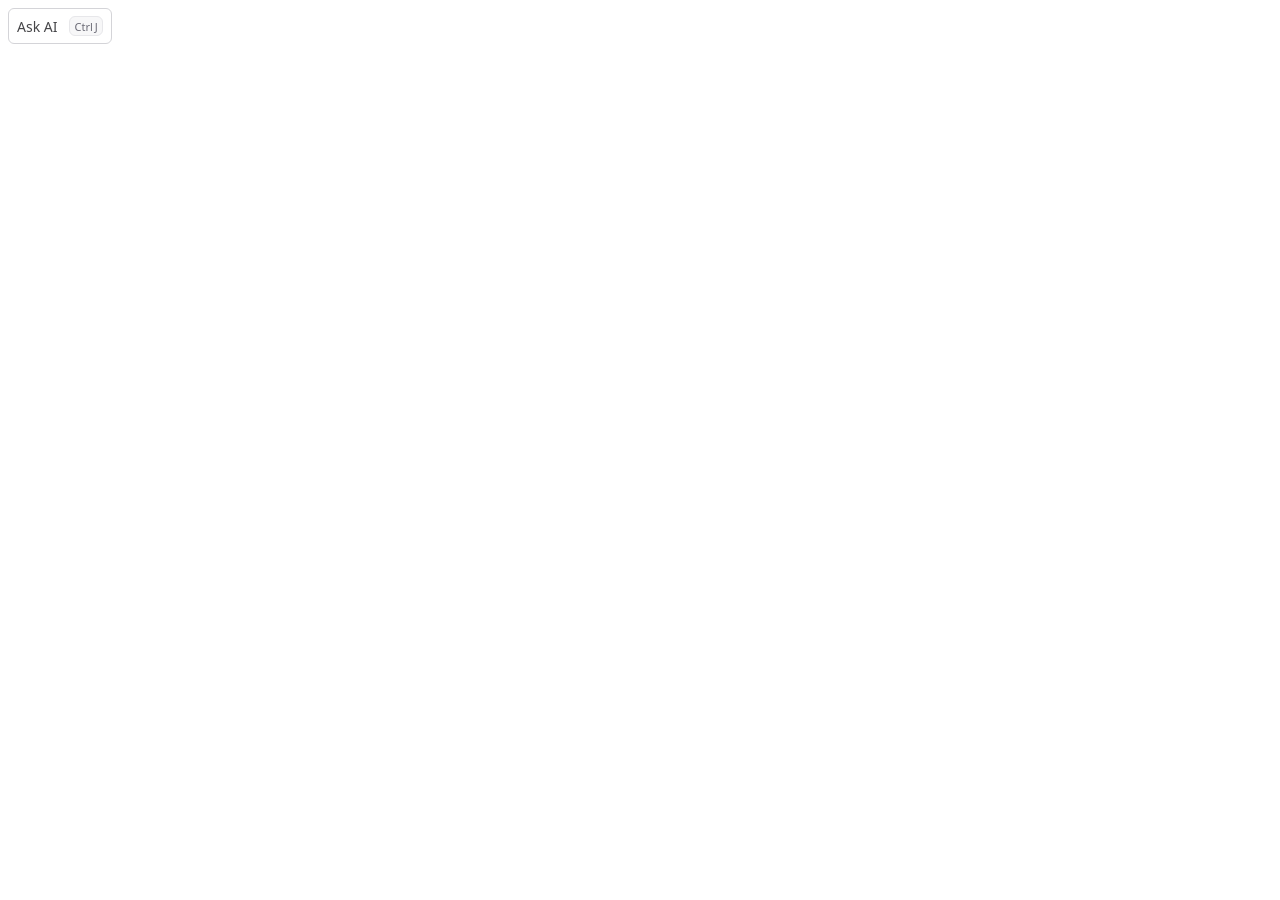
Scenario: maps attached page content into the Algolia agent request
The width and height of the screenshot is (1280, 900).
Click the button "Ask AI Ctrl J" at x=60, y=26, box x1=8 y1=8 x2=112 y2=44
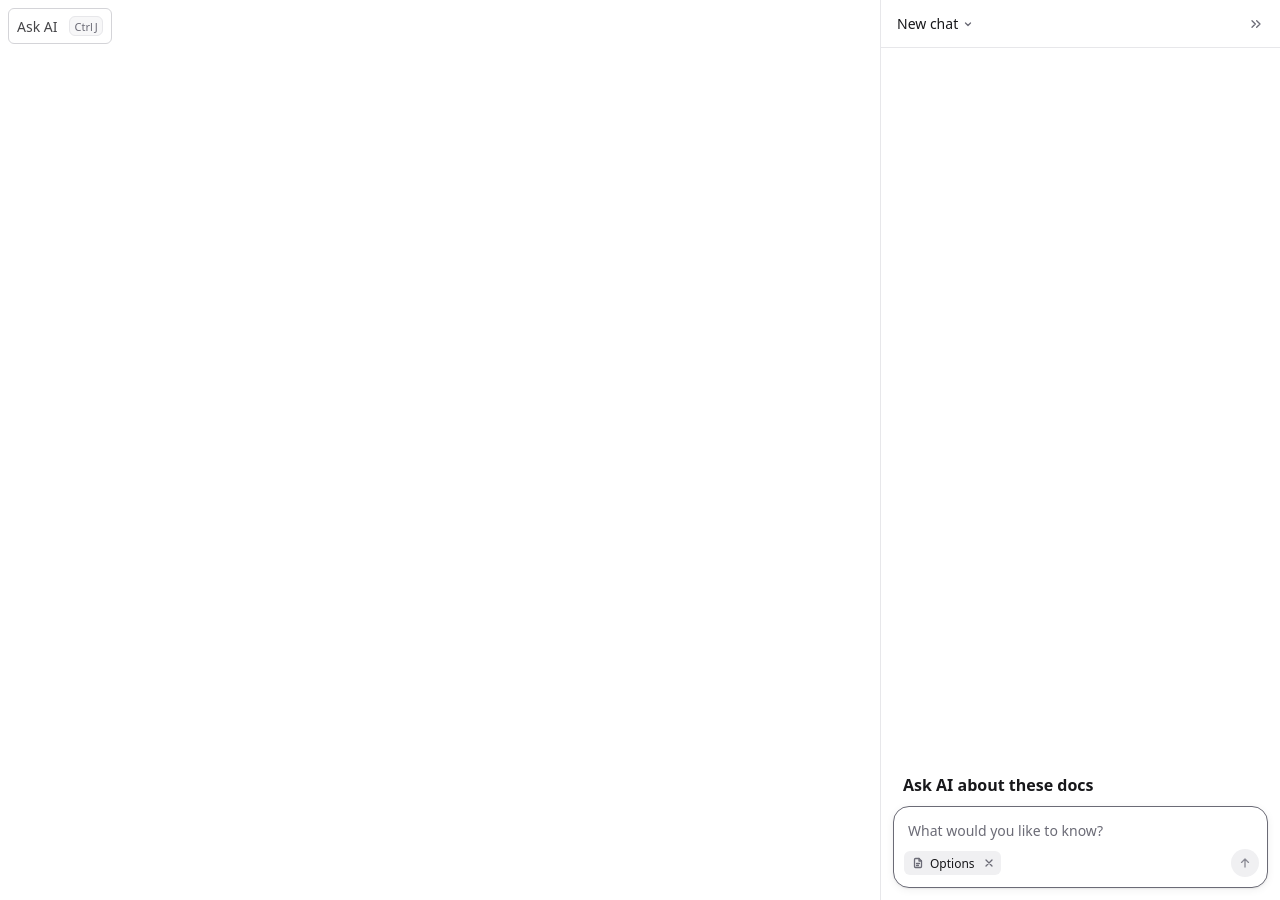
Type keys "How do I add space?{Enter}"
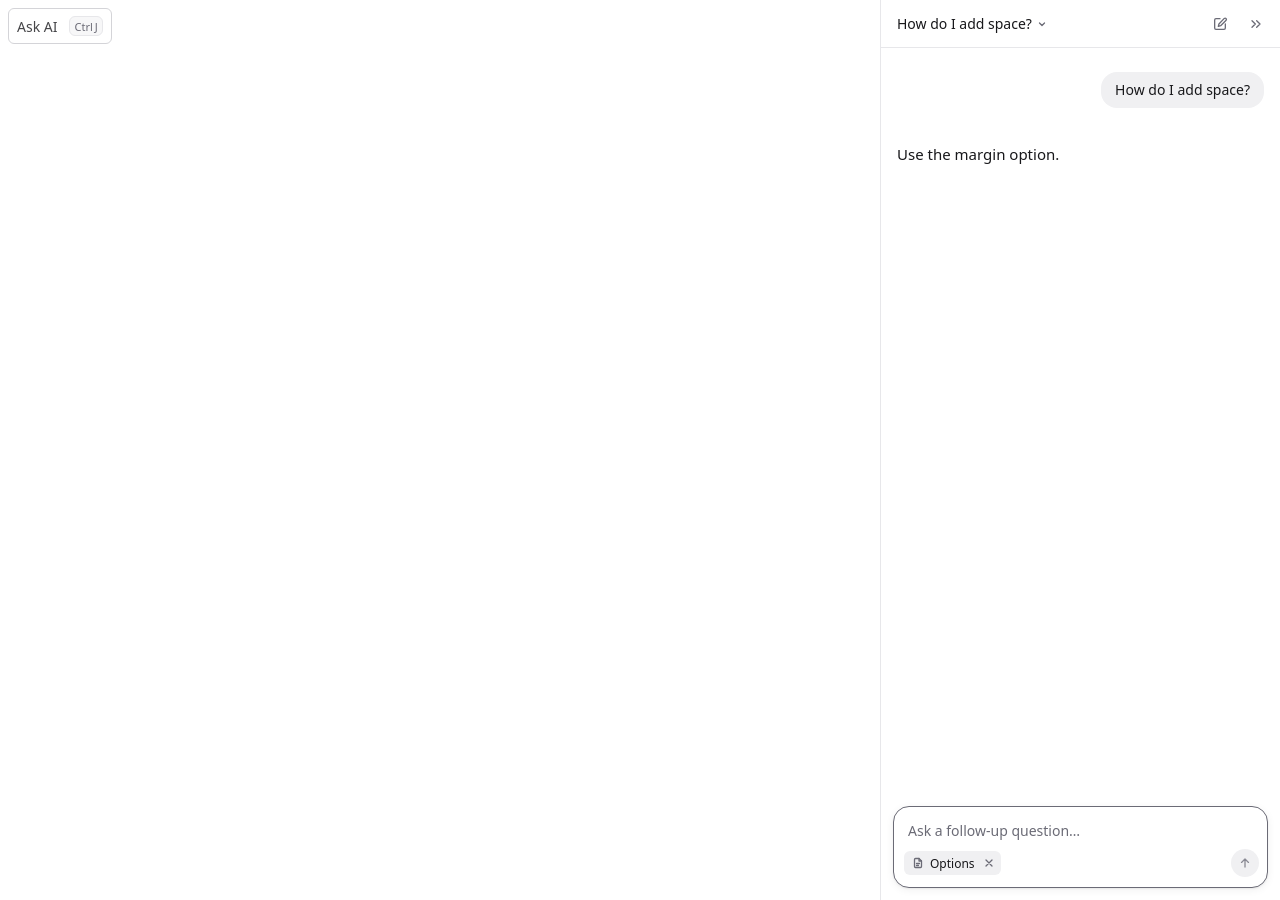
Expected: the 2nd text "How do I add space?" is shown, x1=1101 y1=72 x2=1264 y2=108
